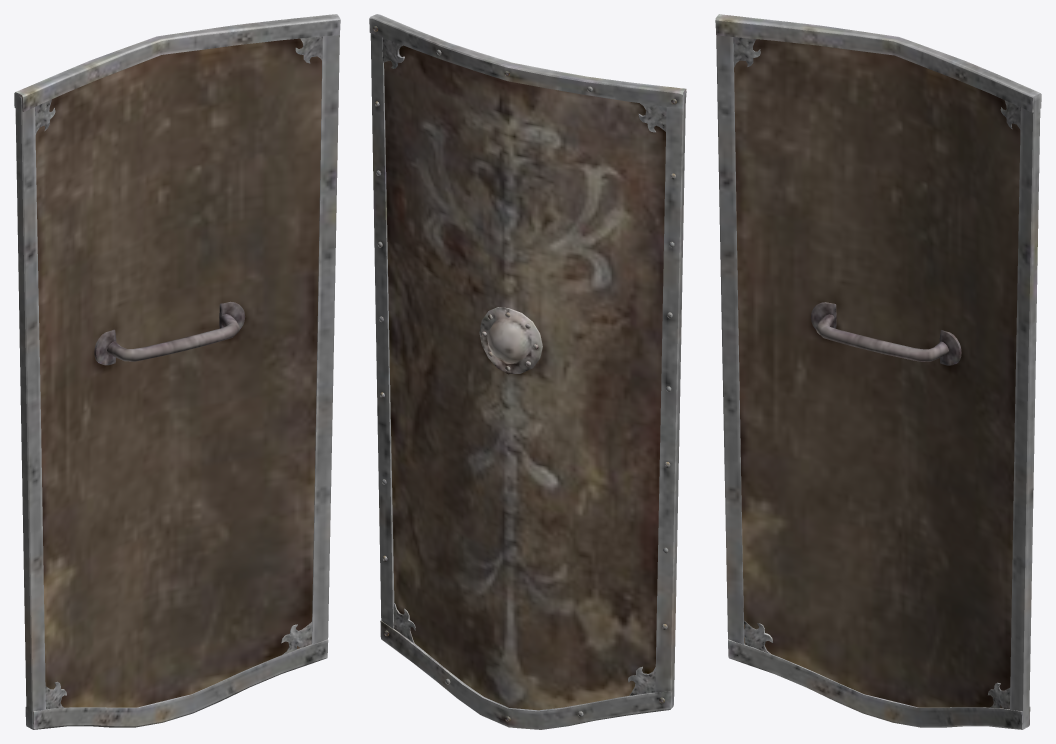
The model's file is weapon-wp_a_2228.glb.
3 views of the same model, side by side, from view 1: azimuth 30°, elevation 25°; view 2: azimuth 150°, elevation 25°; view 3: azimuth 330°, elevation 25° (orthographic). The views are drawn at different scales.
Parts seen in each view (by area): view 1: wp_a_2228_mesh; view 2: wp_a_2228_mesh; view 3: wp_a_2228_mesh.
Part boxes in pixels (x1,y1,x2,y2): wp_a_2228_mesh: (14, 14, 340, 729); wp_a_2228_mesh: (369, 14, 686, 729); wp_a_2228_mesh: (715, 14, 1041, 729).
Size of the model in its own units: 0.6606 by 1.33 by 0.1313.
Materials: 2 (2 with a texture image).
